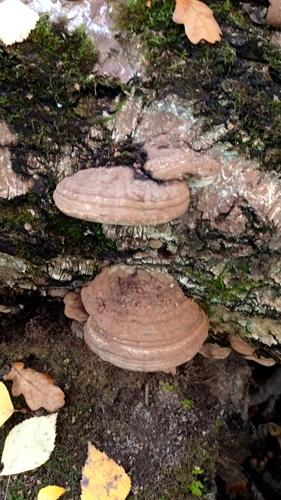Ganoderma - Fruit Body: (87, 262, 209, 374), (54, 164, 191, 222), (230, 331, 278, 369)
